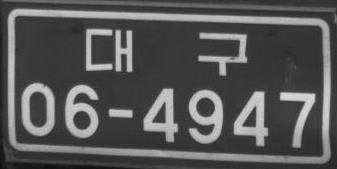0: (21, 82, 55, 137)
4: (142, 87, 178, 142), (234, 91, 269, 147)
6: (65, 82, 99, 138)
7: (279, 91, 315, 149)
9: (188, 89, 223, 143)
대구_D: (84, 27, 248, 76)
